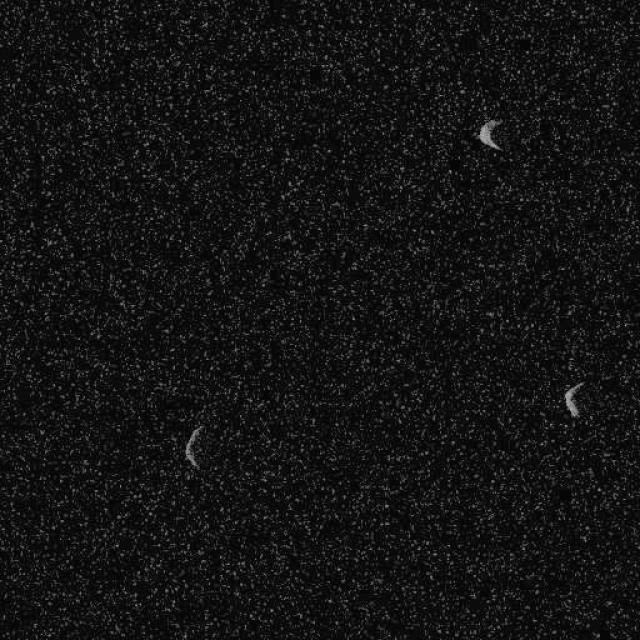D2: (475, 118, 504, 152), (184, 424, 206, 468), (562, 380, 584, 419)
